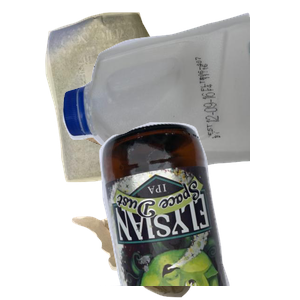glass: (97, 120, 300, 300)
paper: (43, 10, 221, 185)
plastic: (60, 10, 300, 175)
trash: (66, 137, 263, 300)
